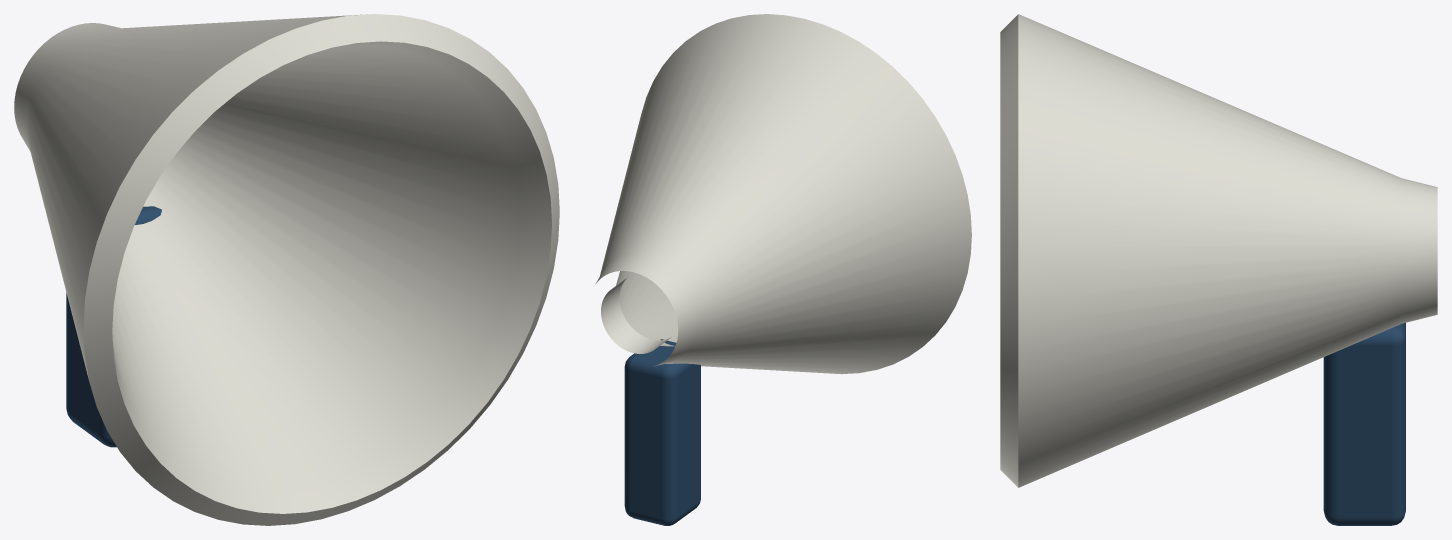
Rendered from rowing-boathouse-and-regatta-course-coach-megaphone-1c5debc8__32161.glb.
The picture shows the model from 3 angles, left to right: view 1: azimuth 30°, elevation 25°; view 2: azimuth 150°, elevation 25°; view 3: azimuth 270°, elevation 25°; orthographic projection. The views are drawn at different scales.
Visible parts, largest first — view 1: coach-megaphone; view 2: coach-megaphone; view 3: coach-megaphone.
Part boxes in pixels (box(x1,y1,x2,y2)): coach-megaphone: box(14, 14, 559, 525); coach-megaphone: box(595, 14, 971, 525); coach-megaphone: box(1000, 14, 1437, 525).
Size of the model in its own units: 0.26 by 0.29 by 0.24.
